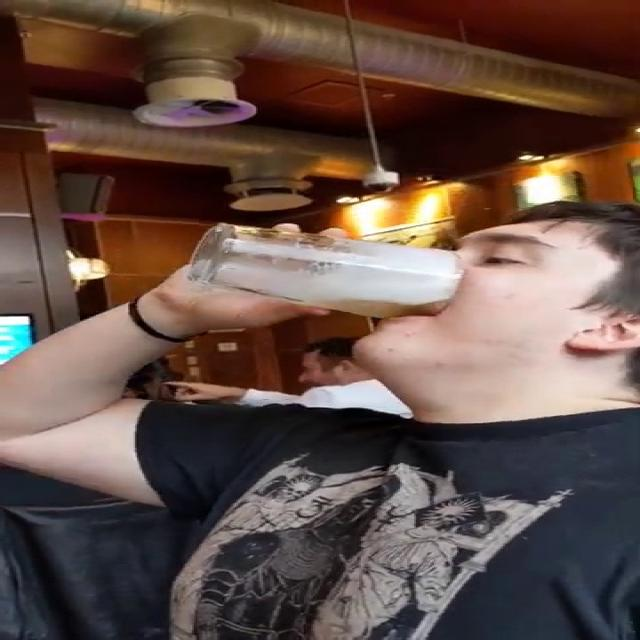Cup: (191, 223, 464, 318)
Hand: (144, 219, 354, 331)
Mouth: (373, 298, 462, 329)
